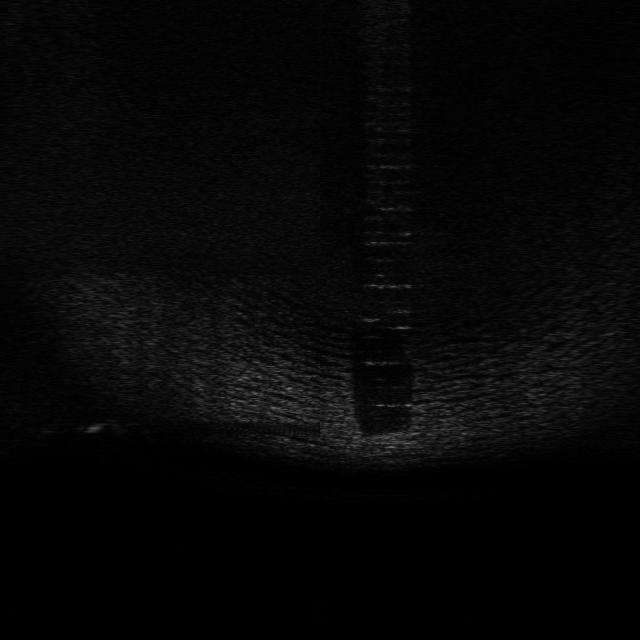cube: (358, 430, 416, 458)
